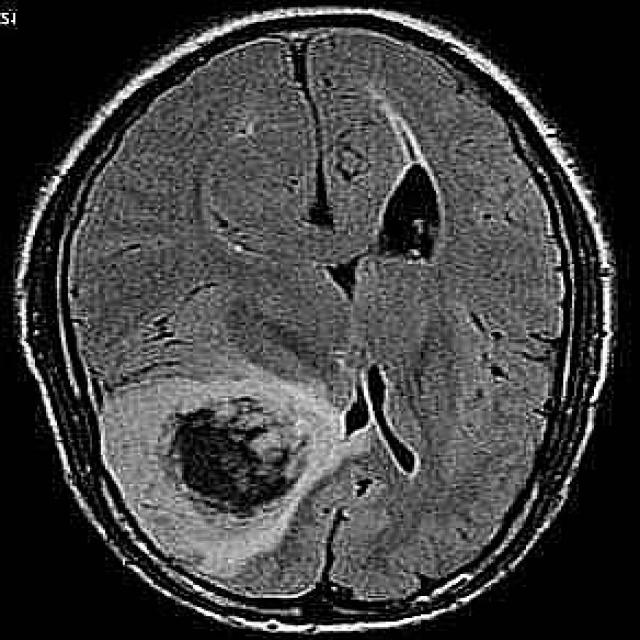Tumor-Cell: (89, 386, 394, 536)
